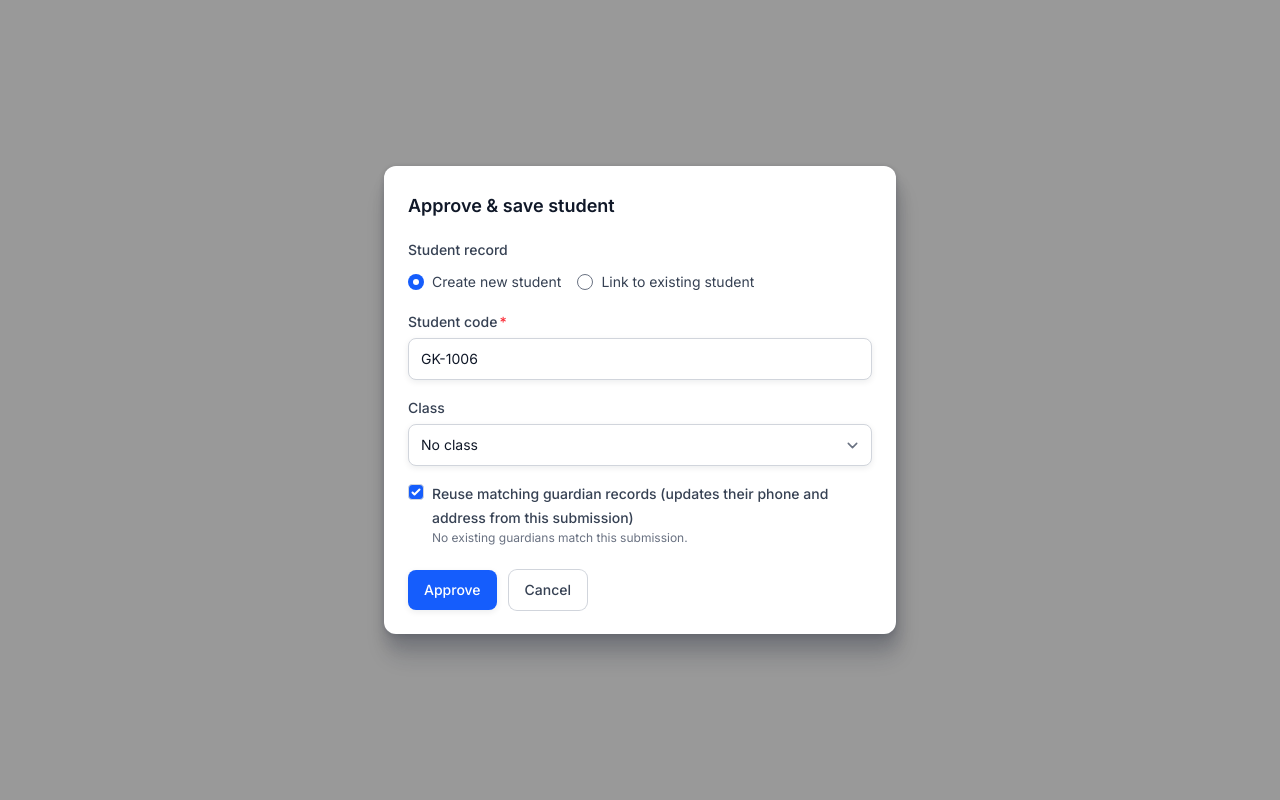
RegistrationApproveDialog › filters the student search after 5 characters
Step 1. Click the radio button labelled "Link to existing student" → (585, 282), box [577,274,593,290]
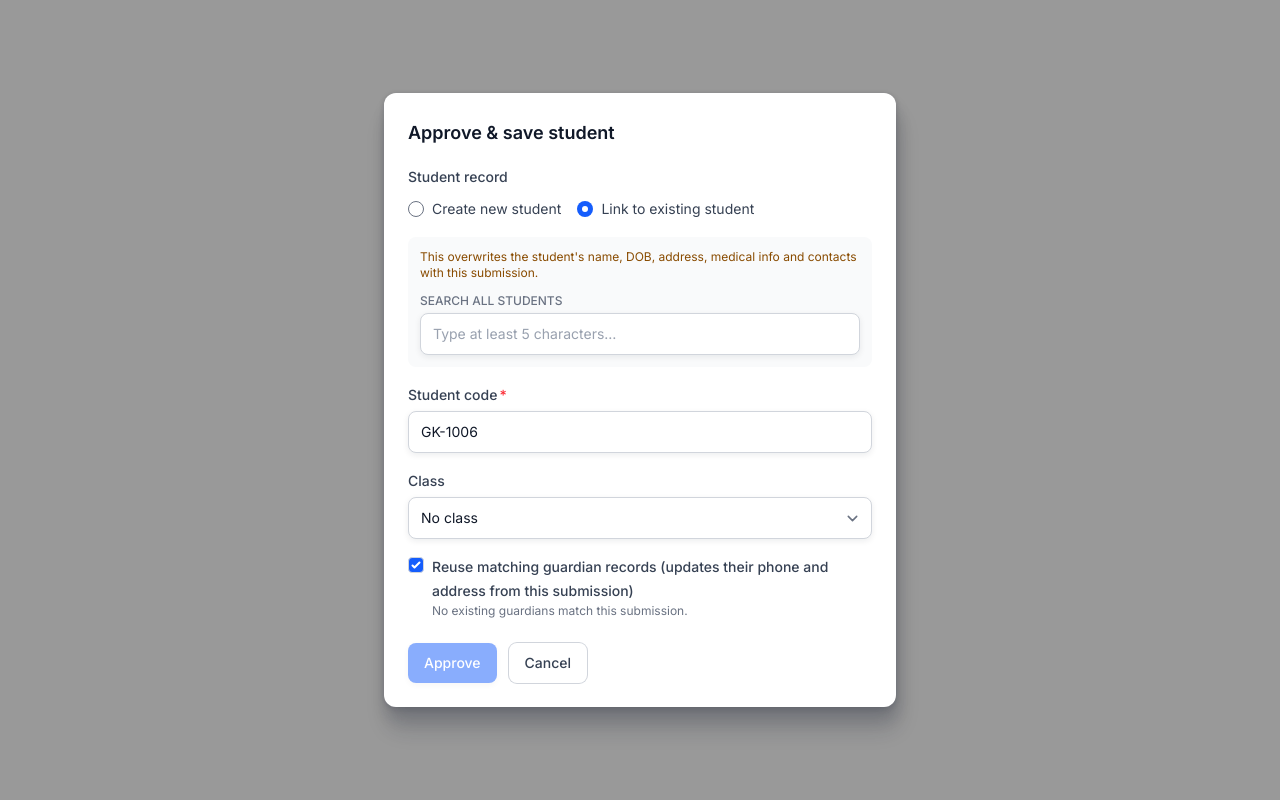
Step 2. Type "Ali" into the search field labelled "Search all students" → (640, 334), box [420,313,860,355]
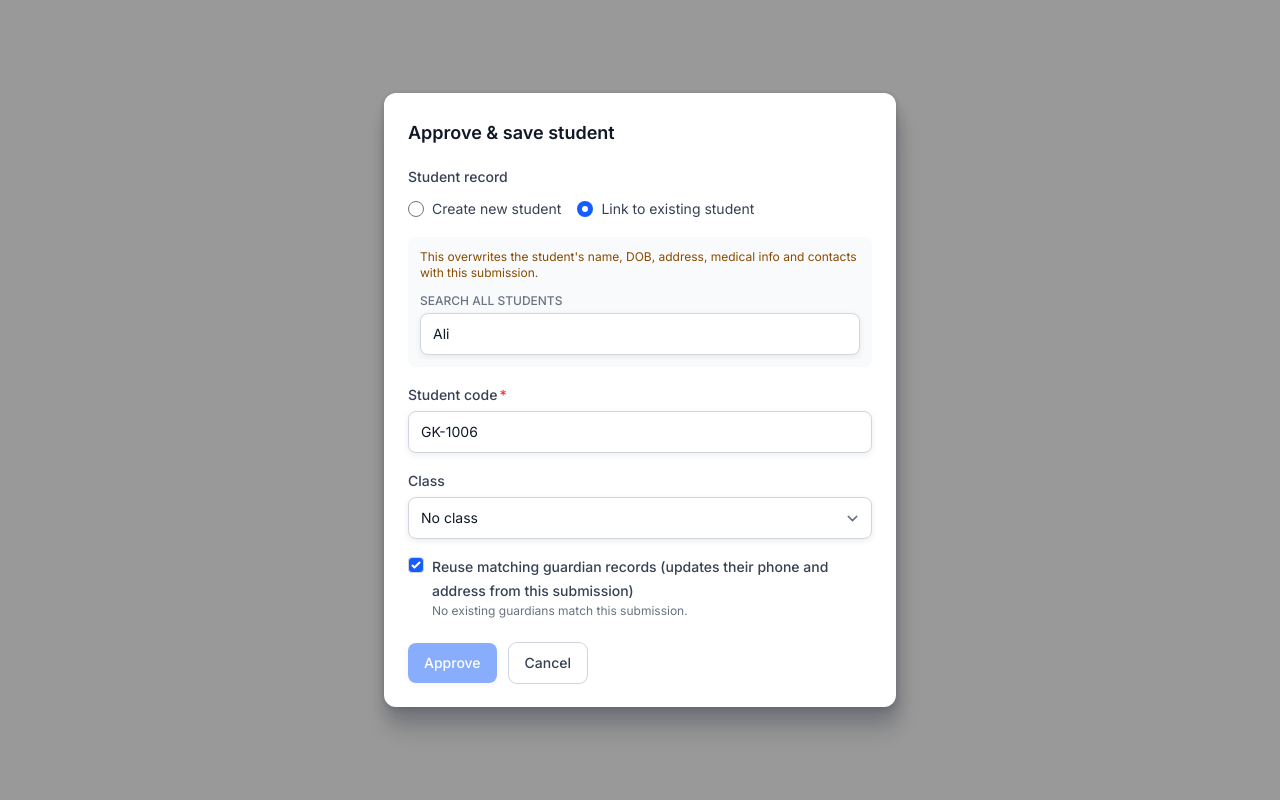
Expected: the text "Smith, Alice" is not shown
Step 3. Replace the text in the search field labelled "Search all students" with "Alice" → (640, 334), box [420,313,860,355]
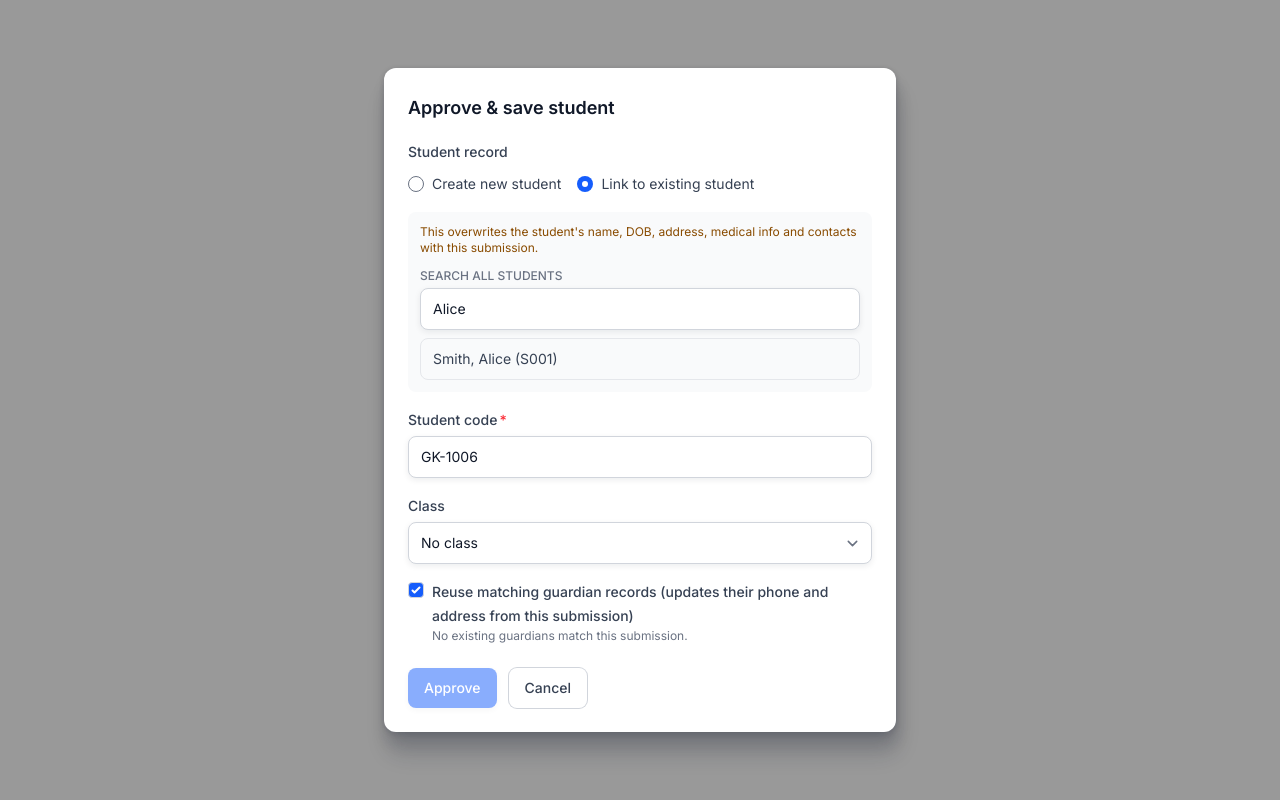
Expected: the button "Smith, Alice (S001)" is shown, [421,339,859,379]
